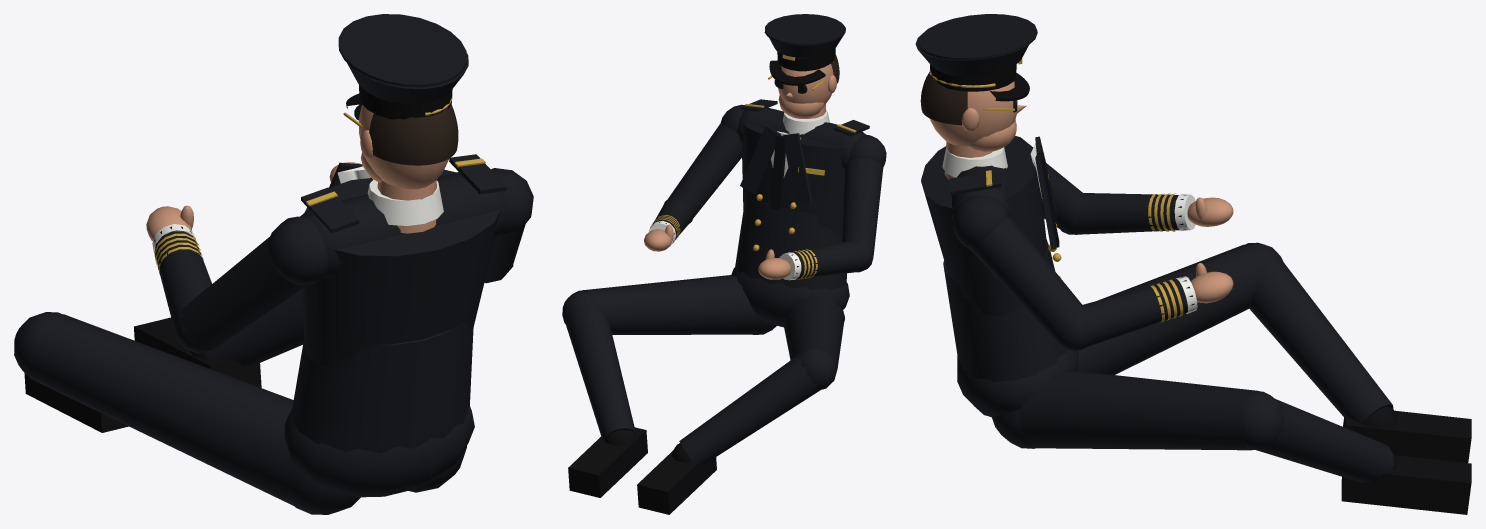
File: pilot-b737-captain.glb
3 renders of one model, left to right at view 1: azimuth 30°, elevation 25°; view 2: azimuth 150°, elevation 25°; view 3: azimuth 270°, elevation 25°, orthographic. The views are drawn at different scales.
Visible parts, largest first — view 1: Pilot_Torso_pilot-airline-uniform, Pilot_Leg_L_Thigh_pilot-airline-trousers, Pilot_Arm_L_Upper_pilot-airline-uniform, Pilot_Head_pilot-airline-cap, Pilot_Torso_pilot-airline-trousers, Pilot_Head_pilot-airline-hair, Pilot_Leg_R_Shin_pilot-airline-trousers, Pilot_Head_pilot-civil-skin, Pilot_Arm_L_Fore_pilot-airline-uniform, Pilot_Arm_R_Upper_pilot-airline-uniform, Pilot_Leg_R_Foot_pilot-airline-shoes, Pilot_Head_pilot-airline-shirt (+4 smaller); view 2: Pilot_Torso_pilot-airline-uniform, Pilot_Leg_R_Thigh_pilot-airline-trousers, Pilot_Leg_L_Shin_pilot-airline-trousers, Pilot_Leg_R_Shin_pilot-airline-trousers, Pilot_Leg_L_Thigh_pilot-airline-trousers, Pilot_Arm_L_Upper_pilot-airline-uniform, Pilot_Arm_R_Upper_pilot-airline-uniform, Pilot_Leg_R_Foot_pilot-airline-shoes, Pilot_Leg_L_Foot_pilot-airline-shoes, Pilot_Head_pilot-airline-cap, Pilot_Torso_pilot-airline-trousers, Pilot_Head_pilot-civil-skin (+8 smaller); view 3: Pilot_Leg_R_Thigh_pilot-airline-trousers, Pilot_Torso_pilot-airline-uniform, Pilot_Leg_L_Shin_pilot-airline-trousers, Pilot_Arm_R_Upper_pilot-airline-uniform, Pilot_Leg_L_Thigh_pilot-airline-trousers, Pilot_Head_pilot-airline-cap, Pilot_Leg_R_Shin_pilot-airline-trousers, Pilot_Leg_R_Foot_pilot-airline-shoes, Pilot_Leg_L_Foot_pilot-airline-shoes, Pilot_Arm_R_Fore_pilot-airline-uniform, Pilot_Head_pilot-civil-skin, Pilot_Arm_L_Fore_pilot-airline-uniform (+7 smaller).
Part boxes in pixels (box(x1,y1,x2,y2)): Pilot_Torso_pilot-airline-uniform: box(291, 154, 507, 453); Pilot_Leg_L_Thigh_pilot-airline-trousers: box(14, 312, 360, 514); Pilot_Arm_L_Upper_pilot-airline-uniform: box(174, 216, 328, 353); Pilot_Head_pilot-airline-cap: box(338, 14, 468, 103); Pilot_Torso_pilot-airline-trousers: box(284, 406, 474, 497); Pilot_Head_pilot-airline-hair: box(369, 105, 458, 165); Pilot_Leg_R_Shin_pilot-airline-trousers: box(205, 288, 303, 365); Pilot_Head_pilot-civil-skin: box(359, 105, 449, 233); Pilot_Arm_L_Fore_pilot-airline-uniform: box(154, 226, 211, 333); Pilot_Arm_R_Upper_pilot-airline-uniform: box(484, 168, 533, 283); Pilot_Leg_R_Foot_pilot-airline-shoes: box(134, 317, 261, 387); Pilot_Head_pilot-airline-shirt: box(367, 179, 443, 225); Pilot_Torso_pilot-airline-uniform: box(735, 99, 869, 290); Pilot_Leg_R_Thigh_pilot-airline-trousers: box(562, 275, 776, 334); Pilot_Leg_L_Shin_pilot-airline-trousers: box(679, 353, 821, 463); Pilot_Leg_R_Shin_pilot-airline-trousers: box(565, 302, 635, 439); Pilot_Leg_L_Thigh_pilot-airline-trousers: box(783, 295, 844, 389); Pilot_Arm_L_Upper_pilot-airline-uniform: box(842, 134, 886, 272); Pilot_Arm_R_Upper_pilot-airline-uniform: box(663, 104, 744, 224); Pilot_Leg_R_Foot_pilot-airline-shoes: box(568, 427, 647, 497); Pilot_Leg_L_Foot_pilot-airline-shoes: box(637, 443, 716, 514); Pilot_Head_pilot-airline-cap: box(764, 14, 845, 57); Pilot_Torso_pilot-airline-trousers: box(731, 266, 849, 327); Pilot_Head_pilot-civil-skin: box(778, 64, 836, 118); Pilot_Leg_R_Thigh_pilot-airline-trousers: box(991, 370, 1284, 450); Pilot_Torso_pilot-airline-uniform: box(921, 136, 1067, 382); Pilot_Leg_L_Shin_pilot-airline-trousers: box(1249, 258, 1393, 423); Pilot_Arm_R_Upper_pilot-airline-uniform: box(953, 195, 1087, 350); Pilot_Leg_L_Thigh_pilot-airline-trousers: box(1078, 242, 1283, 374); Pilot_Head_pilot-airline-cap: box(915, 14, 1037, 76); Pilot_Leg_R_Shin_pilot-airline-trousers: box(1256, 399, 1393, 482); Pilot_Leg_R_Foot_pilot-airline-shoes: box(1341, 453, 1471, 514); Pilot_Leg_L_Foot_pilot-airline-shoes: box(1343, 406, 1471, 462); Pilot_Arm_R_Fore_pilot-airline-uniform: box(1080, 277, 1194, 347); Pilot_Head_pilot-civil-skin: box(930, 81, 1026, 179); Pilot_Arm_L_Fore_pilot-airline-uniform: box(1072, 193, 1186, 234).
Bounding box in the file's own units: 0.8756 × 1.06 × 1.19.
